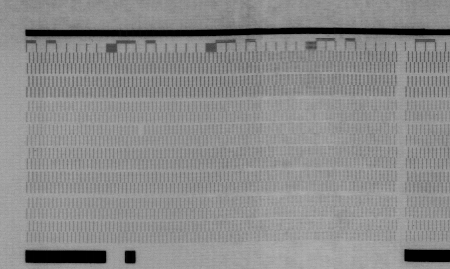Broken hole: (135, 124, 148, 137)
